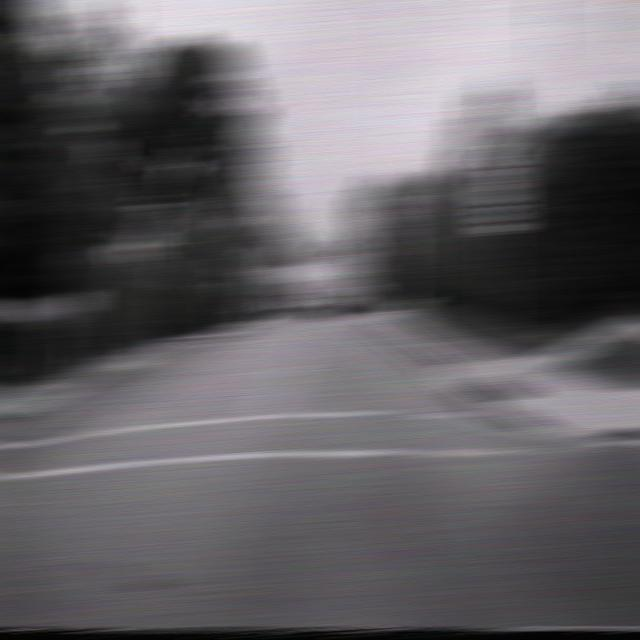noLeftTurn: (381, 195, 413, 222)
pedestrianCrossing: (470, 68, 525, 142)
speedLimit25: (476, 165, 522, 235)
